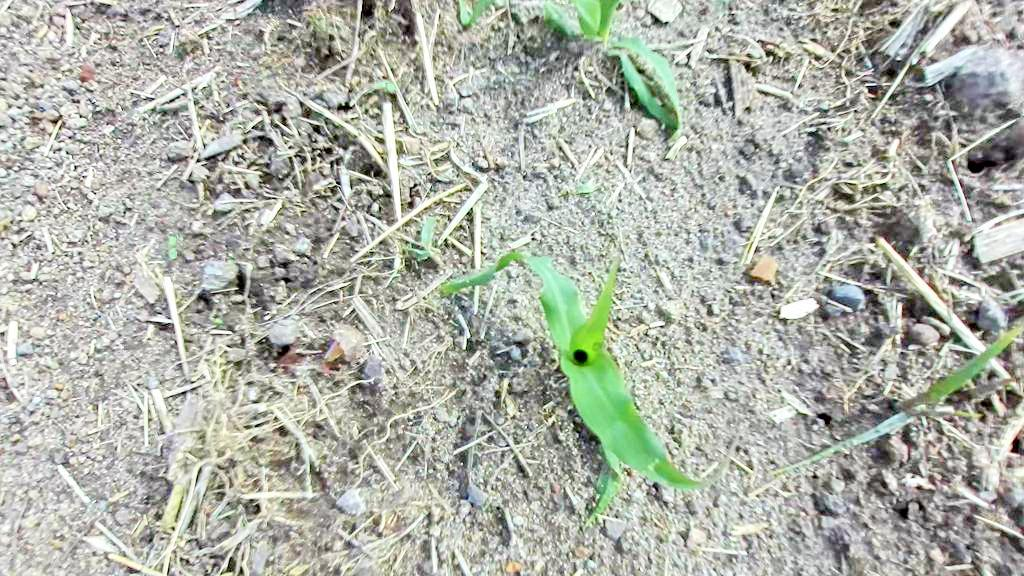BroWeed: (401, 216, 446, 275), (321, 340, 346, 368), (369, 76, 399, 96), (573, 176, 605, 194), (206, 308, 224, 329), (505, 559, 523, 576), (575, 557, 598, 570), (167, 235, 177, 259)
Maize: (431, 193, 754, 557)
